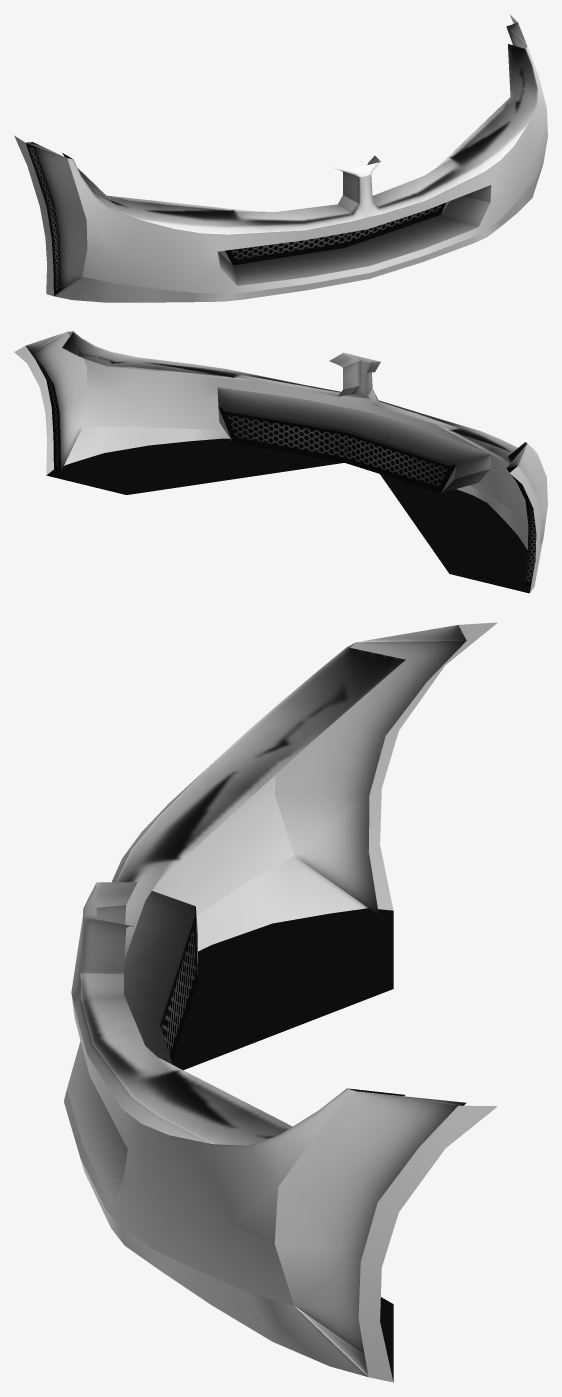
The model's file is Sport_07_Bumper_F_2.fbx.
3 views of the same model, one above another, from view 1: azimuth 30°, elevation 25°; view 2: azimuth 150°, elevation 25°; view 3: azimuth 270°, elevation 25° (orthographic). The views are drawn at different scales.
Parts seen in each view (by area): view 1: Sport_07_Bumper_F_2; view 2: Sport_07_Bumper_F_2; view 3: Sport_07_Bumper_F_2.
Part boxes in pixels (box(x1,y1,x2,y2)): Sport_07_Bumper_F_2: box(14, 15, 547, 302); Sport_07_Bumper_F_2: box(14, 331, 547, 593); Sport_07_Bumper_F_2: box(64, 622, 497, 1382).
Size of the model in its own units: 204 by 55.59 by 77.52.
